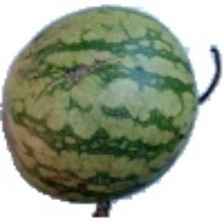watermelon: (21, 27, 189, 206)
